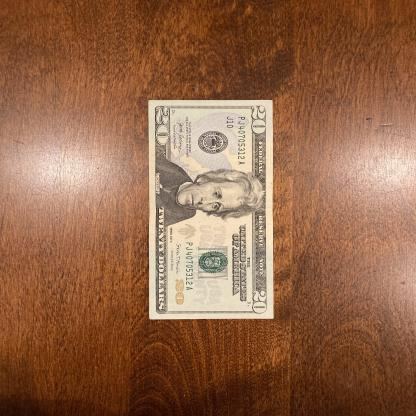twenty-front: (147, 100, 275, 320)
